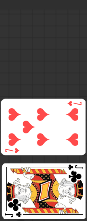7H: (66, 101, 82, 108)
JC: (66, 164, 84, 171)
